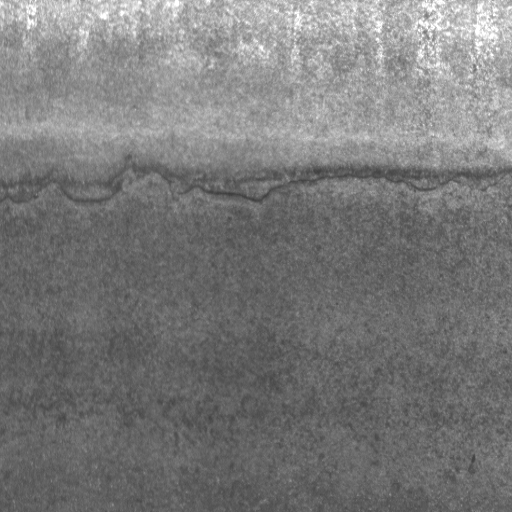hengxiangliewen: (1, 162, 510, 211)
